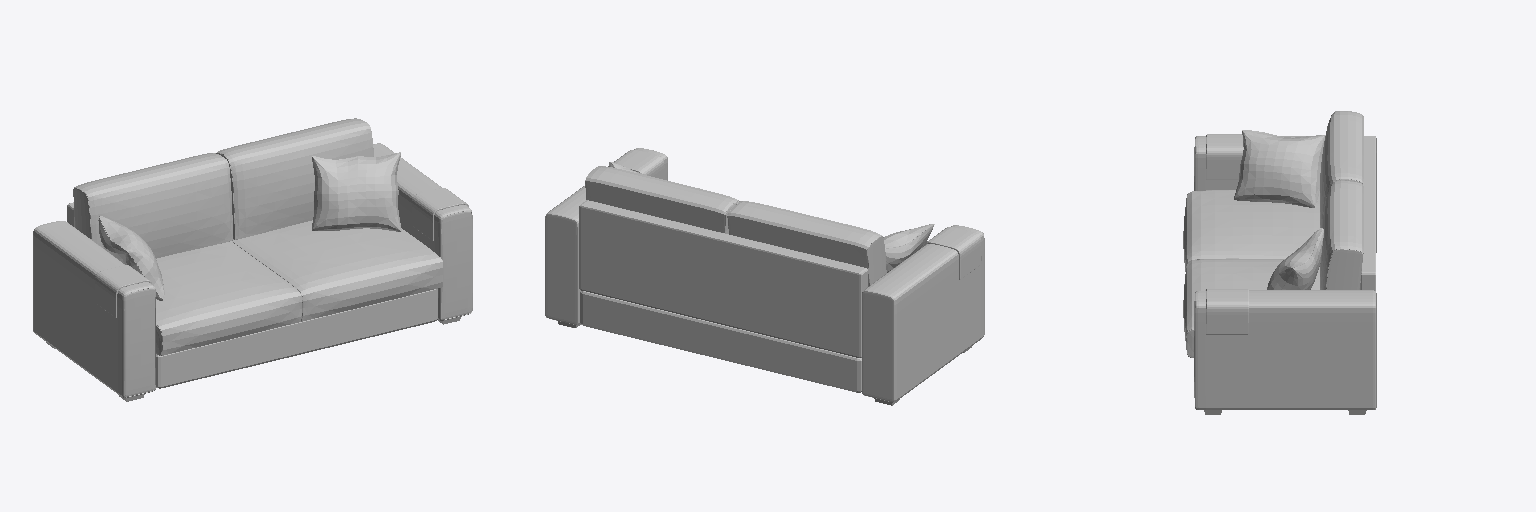
File: Sofa GM Plutone_OBJ.obj
The picture shows the model from 3 angles: view 1: azimuth 30°, elevation 25°; view 2: azimuth 150°, elevation 25°; view 3: azimuth 270°, elevation 25°; orthographic projection.
Parts seen in each view (by area): view 1: couch2; view 2: couch2; view 3: couch2.
Part boxes in pixels (bbox=[...]): couch2: bbox=[33, 118, 472, 401]; couch2: bbox=[545, 148, 984, 405]; couch2: bbox=[1183, 111, 1376, 414].
Bounding box in the file's own units: 2076 × 878 × 982.